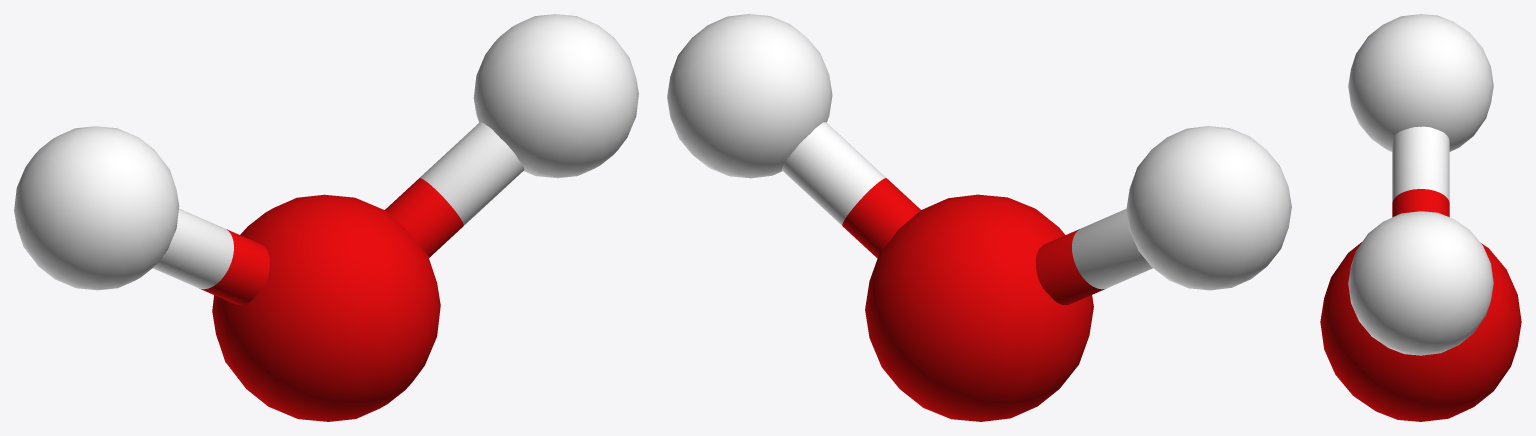
Rendered from asset.gltf.
3 renders of one model, left to right at view 1: azimuth 30°, elevation 25°; view 2: azimuth 150°, elevation 25°; view 3: azimuth 270°, elevation 25°, orthographic. The views are drawn at different scales.
Visible parts, largest first — view 1: Shape_IndexedFaceSet, Shape_IndexedFaceSet.002, Shape_IndexedFaceSet.001, Shape_IndexedFaceSet.006, Shape_IndexedFaceSet.004, Shape_IndexedFaceSet.005, Shape_IndexedFaceSet.003; view 2: Shape_IndexedFaceSet, Shape_IndexedFaceSet.002, Shape_IndexedFaceSet.001, Shape_IndexedFaceSet.006, Shape_IndexedFaceSet.004, Shape_IndexedFaceSet.005, Shape_IndexedFaceSet.003; view 3: Shape_IndexedFaceSet.001, Shape_IndexedFaceSet, Shape_IndexedFaceSet.002, Shape_IndexedFaceSet.004, Shape_IndexedFaceSet.003.
Boxes of the visible parts, <box> form: Shape_IndexedFaceSet: <box>212,194,440,421</box>; Shape_IndexedFaceSet.002: <box>14,126,179,290</box>; Shape_IndexedFaceSet.001: <box>473,14,638,178</box>; Shape_IndexedFaceSet.006: <box>420,122,524,225</box>; Shape_IndexedFaceSet.004: <box>153,208,233,289</box>; Shape_IndexedFaceSet.005: <box>385,178,463,257</box>; Shape_IndexedFaceSet.003: <box>199,229,269,304</box>; Shape_IndexedFaceSet: <box>865,194,1093,421</box>; Shape_IndexedFaceSet.002: <box>1126,126,1291,290</box>; Shape_IndexedFaceSet.001: <box>667,14,832,178</box>; Shape_IndexedFaceSet.006: <box>782,122,885,225</box>; Shape_IndexedFaceSet.004: <box>1072,208,1152,289</box>; Shape_IndexedFaceSet.005: <box>842,178,920,258</box>; Shape_IndexedFaceSet.003: <box>1035,229,1104,304</box>; Shape_IndexedFaceSet.001: <box>1348,211,1493,355</box>; Shape_IndexedFaceSet: <box>1320,242,1521,421</box>; Shape_IndexedFaceSet.002: <box>1348,14,1493,151</box>; Shape_IndexedFaceSet.004: <box>1392,126,1449,201</box>; Shape_IndexedFaceSet.003: <box>1392,189,1449,217</box>.
Size of the model in its own units: 21.28 by 11.3 by 7.
